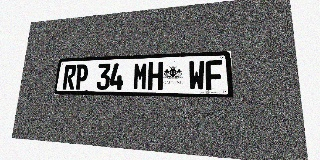3: (96, 63, 111, 90)
4: (109, 63, 124, 90)
F: (205, 60, 223, 90)
H: (147, 62, 163, 90)
M: (133, 62, 148, 90)
P: (74, 64, 89, 90)
R: (62, 65, 77, 89)
W: (188, 60, 205, 90)
